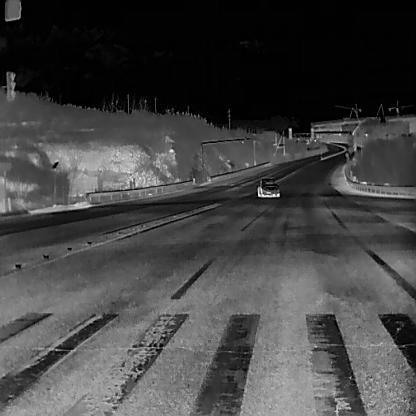car: (257, 177, 280, 198), (352, 142, 356, 151), (324, 138, 329, 143)
